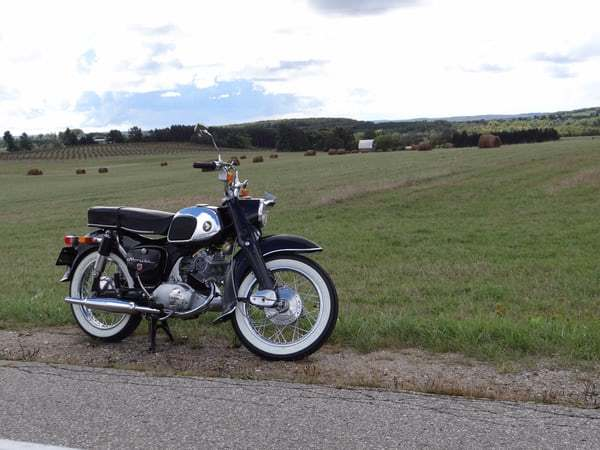26_label: (52, 108, 394, 361)
